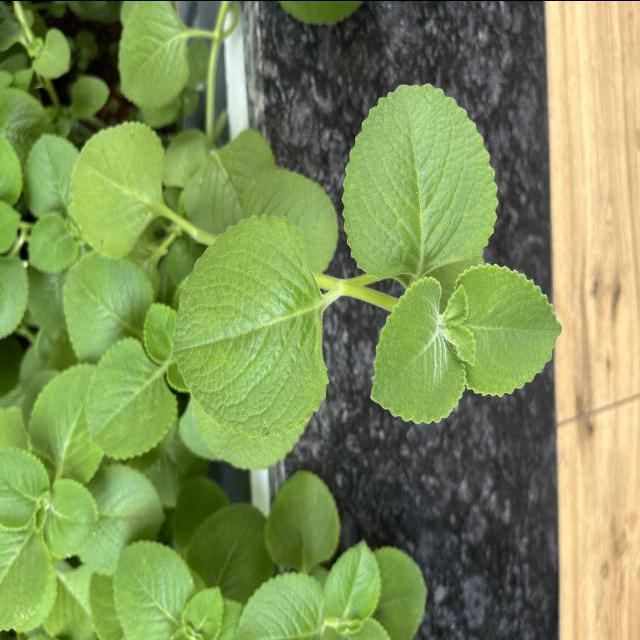Plectranthus barbatus: (170, 212, 332, 440), (340, 80, 503, 280), (451, 262, 565, 397), (368, 274, 468, 426), (67, 120, 169, 260), (83, 335, 180, 459), (61, 251, 156, 362), (74, 462, 166, 576), (30, 361, 106, 485), (113, 538, 198, 640), (118, 0, 192, 111), (264, 467, 342, 572), (38, 477, 101, 558), (0, 442, 50, 530)
